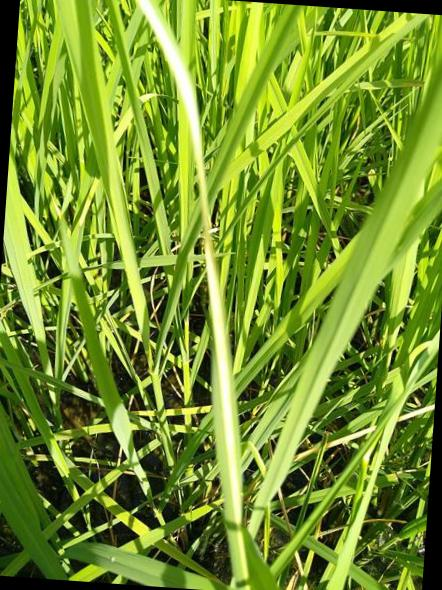Leaf Blight: (133, 0, 243, 527)
